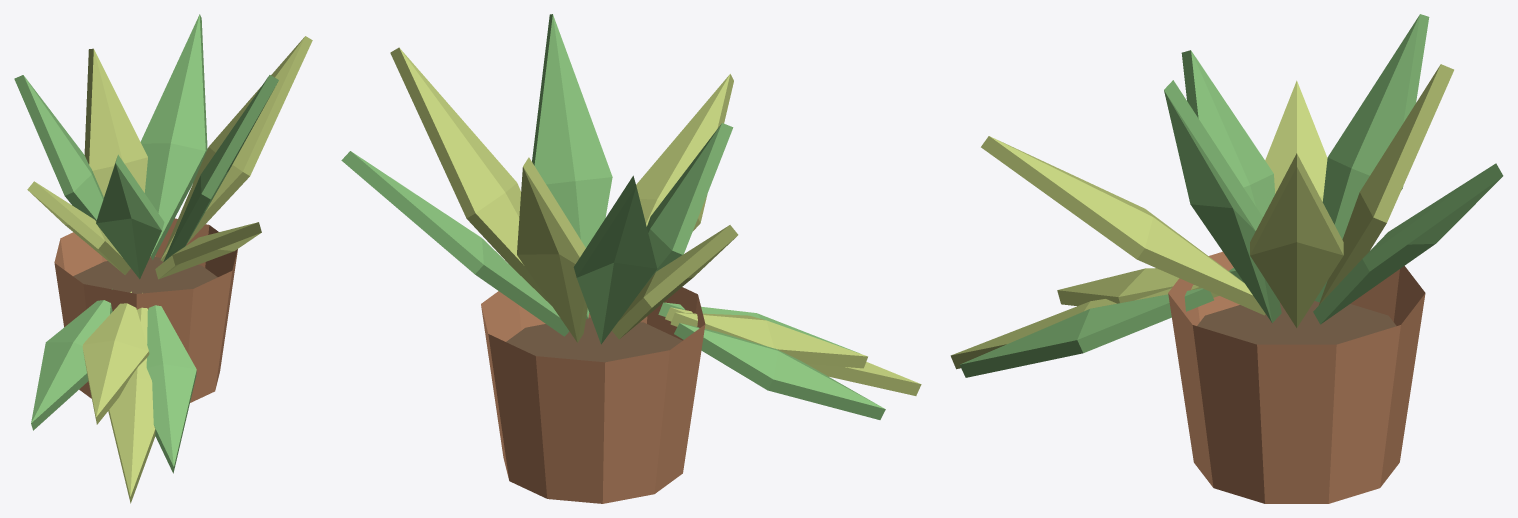
The model's file is shelf_plant.glb.
3 views of the same model, side by side, from view 1: azimuth 30°, elevation 25°; view 2: azimuth 150°, elevation 25°; view 3: azimuth 270°, elevation 25° (orthographic). The views are drawn at different scales.
Visible parts, largest first — view 1: shelf_plant; view 2: shelf_plant; view 3: shelf_plant.
Boxes of the visible parts, <box> form: shelf_plant: <box>14,14,312,503</box>; shelf_plant: <box>341,14,921,503</box>; shelf_plant: <box>950,14,1503,503</box>.
Bounding box in the file's own units: 0.2904 × 0.2565 × 0.2954.
